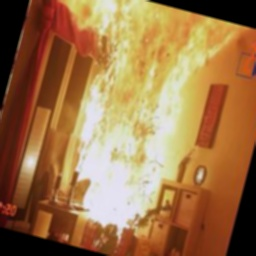fire: (28, 0, 245, 242)
